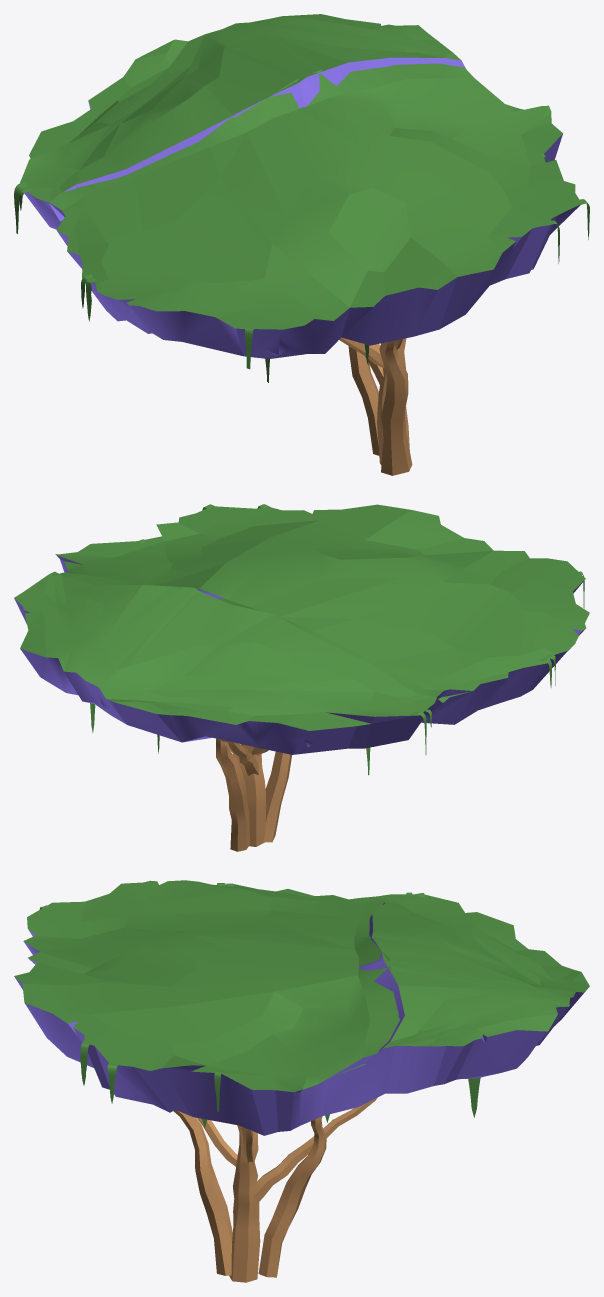
File: tree_A_canopy_B_solo.fbx
The picture shows the model from 3 angles, top to bottom: view 1: azimuth 30°, elevation 25°; view 2: azimuth 150°, elevation 25°; view 3: azimuth 270°, elevation 25°; orthographic projection. The views are drawn at different scales.
Visible parts, largest first — view 1: tree_A_canopy_B, tree_A_canopy_B_leveled, tree_A_canopy_B_trunks_C, tree_A_canopy_B_trunks_B, tree_A_canopy_B_trunks_A; view 2: tree_A_canopy_B, tree_A_canopy_B_leveled, tree_A_canopy_B_trunks_B, tree_A_canopy_B_trunks_A, tree_A_canopy_B_trunks_C, tree_A_canopy_B_trunks_D; view 3: tree_A_canopy_B, tree_A_canopy_B_leveled, tree_A_canopy_B_trunks_A, tree_A_canopy_B_trunks_C, tree_A_canopy_B_trunks_B, tree_A_canopy_B_trunks_D, tree_A_canopy_B_trunks_E.
Boxes of the visible parts, box(x1,y1,x2,y2) form: tree_A_canopy_B: box(19, 14, 581, 358); tree_A_canopy_B_leveled: box(38, 34, 465, 222); tree_A_canopy_B_trunks_C: box(379, 340, 412, 475); tree_A_canopy_B_trunks_B: box(348, 346, 379, 455); tree_A_canopy_B_trunks_A: box(377, 338, 409, 464); tree_A_canopy_B: box(14, 504, 589, 754); tree_A_canopy_B_leveled: box(33, 563, 472, 719); tree_A_canopy_B_trunks_B: box(216, 738, 249, 851); tree_A_canopy_B_trunks_A: box(240, 744, 266, 846); tree_A_canopy_B_trunks_C: box(263, 751, 291, 842); tree_A_canopy_B_trunks_D: box(219, 739, 258, 775); tree_A_canopy_B: box(14, 880, 589, 1135); tree_A_canopy_B_leveled: box(263, 902, 536, 1115); tree_A_canopy_B_trunks_A: box(229, 1125, 260, 1282); tree_A_canopy_B_trunks_C: box(173, 1110, 232, 1275); tree_A_canopy_B_trunks_B: box(258, 1116, 326, 1277); tree_A_canopy_B_trunks_D: box(254, 1097, 377, 1205); tree_A_canopy_B_trunks_E: box(197, 1118, 237, 1166).
Size of the model in its own units: 889 by 564 by 943.
